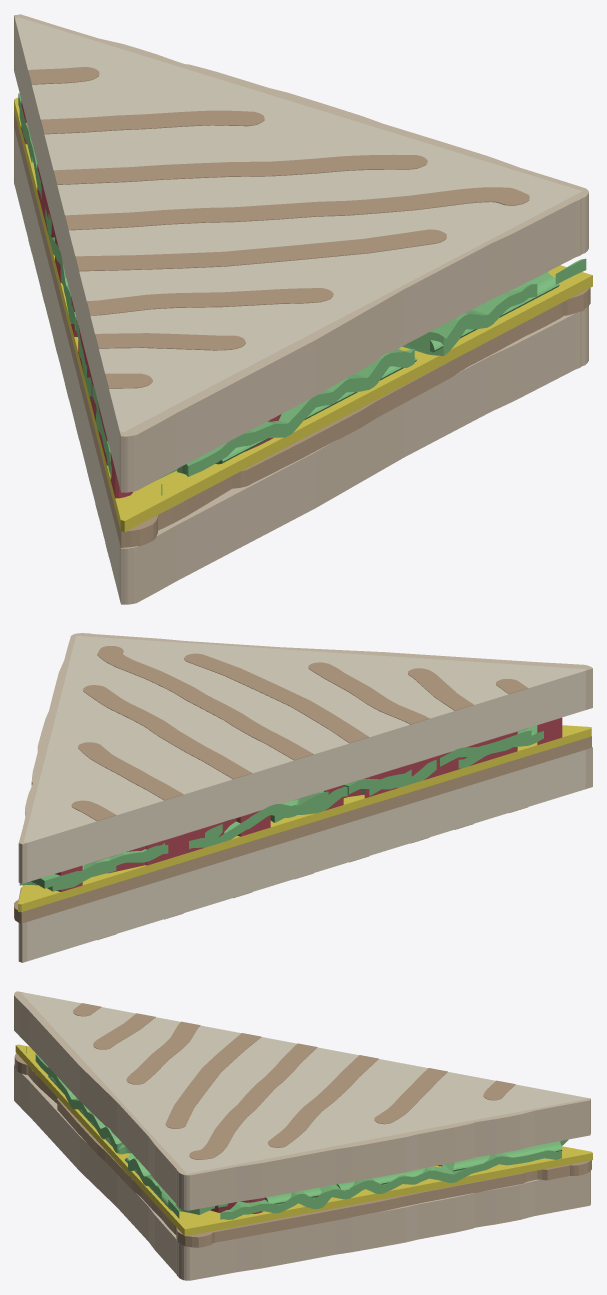
The model's file is Tuna.glb.
The picture shows the model from 3 angles, top to bottom: view 1: azimuth 30°, elevation 25°; view 2: azimuth 150°, elevation 25°; view 3: azimuth 270°, elevation 25°; orthographic projection. The views are drawn at different scales.
Parts seen in each view (by area): view 1: Mesh_Mesh_head_geo.001_lambert2SG.001; view 2: Mesh_Mesh_head_geo.001_lambert2SG.001; view 3: Mesh_Mesh_head_geo.001_lambert2SG.001.
Boxes of the visible parts, left/top/right/bottom form: Mesh_Mesh_head_geo.001_lambert2SG.001: left=14, top=14, right=592, bottom=604; Mesh_Mesh_head_geo.001_lambert2SG.001: left=14, top=633, right=592, bottom=962; Mesh_Mesh_head_geo.001_lambert2SG.001: left=14, top=991, right=592, bottom=1280.
Bounding box in the file's own units: 101 × 26.85 × 133.
